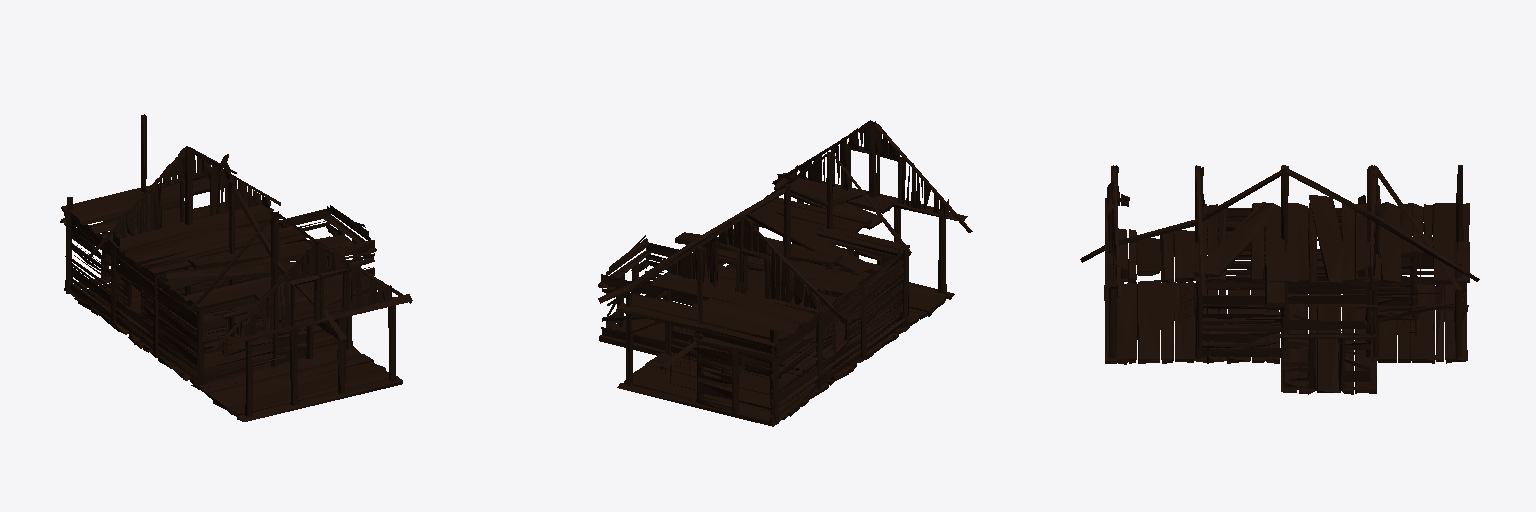
The model's file is home.obj.
The picture shows the model from 3 angles: view 1: azimuth 30°, elevation 25°; view 2: azimuth 150°, elevation 25°; view 3: azimuth 270°, elevation 25°; orthographic projection.
Parts seen in each view (by area): view 1: Cylinder.006; view 2: Cylinder.006; view 3: Cylinder.006.
Boxes of the visible parts, x1,y1,x2,y2 form: Cylinder.006: [60, 114, 412, 421]; Cylinder.006: [598, 120, 972, 426]; Cylinder.006: [1080, 165, 1479, 394].
Bounding box in the file's own units: 13.31 × 8.29 × 18.66.